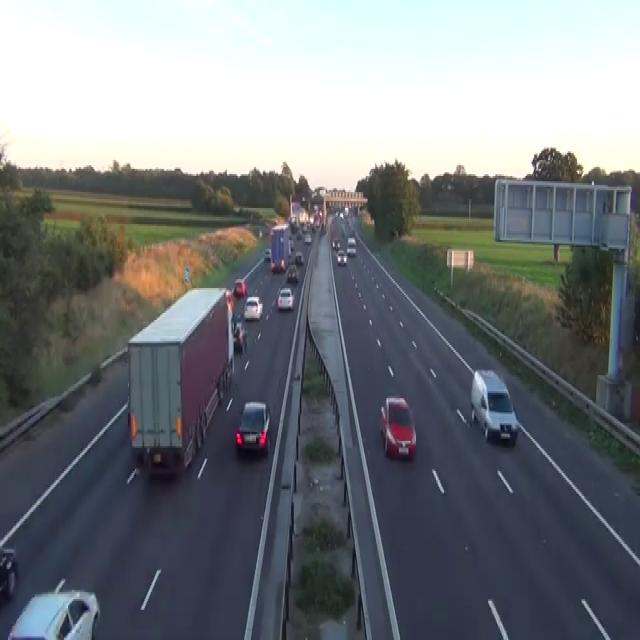Car: (7, 578, 100, 638), (470, 368, 518, 446), (379, 394, 416, 460), (235, 400, 270, 453), (0, 546, 17, 606), (243, 295, 263, 320), (233, 322, 247, 354), (277, 286, 293, 310), (233, 277, 247, 297), (286, 263, 298, 283), (270, 258, 285, 274), (232, 311, 242, 333), (225, 288, 234, 311), (346, 236, 356, 256), (336, 247, 347, 265), (288, 215, 297, 233), (331, 236, 340, 249), (295, 251, 303, 265), (270, 260, 279, 272), (264, 247, 271, 261), (296, 228, 303, 240), (225, 288, 231, 300), (304, 233, 311, 243), (320, 222, 326, 233), (289, 238, 294, 251), (446, 182, 454, 190), (233, 204, 240, 213), (271, 217, 278, 226), (341, 224, 346, 236), (344, 206, 348, 217), (441, 183, 446, 190), (339, 212, 343, 218), (259, 230, 262, 237)
Truck: (126, 284, 235, 478), (269, 222, 291, 274)
